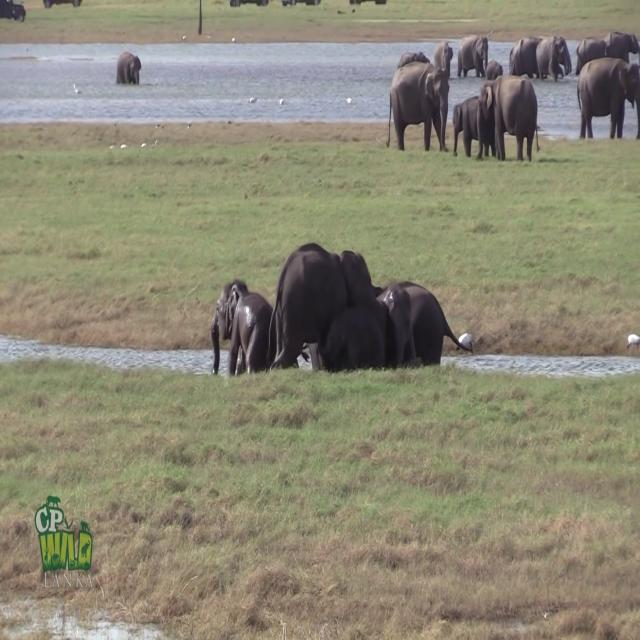Elephant: (266, 241, 376, 372), (375, 279, 473, 368), (208, 274, 266, 376), (386, 61, 449, 151), (476, 74, 540, 161), (576, 56, 640, 139), (452, 95, 496, 158), (457, 33, 489, 78), (115, 51, 142, 85), (433, 41, 453, 78), (397, 50, 430, 69), (484, 59, 502, 79)
